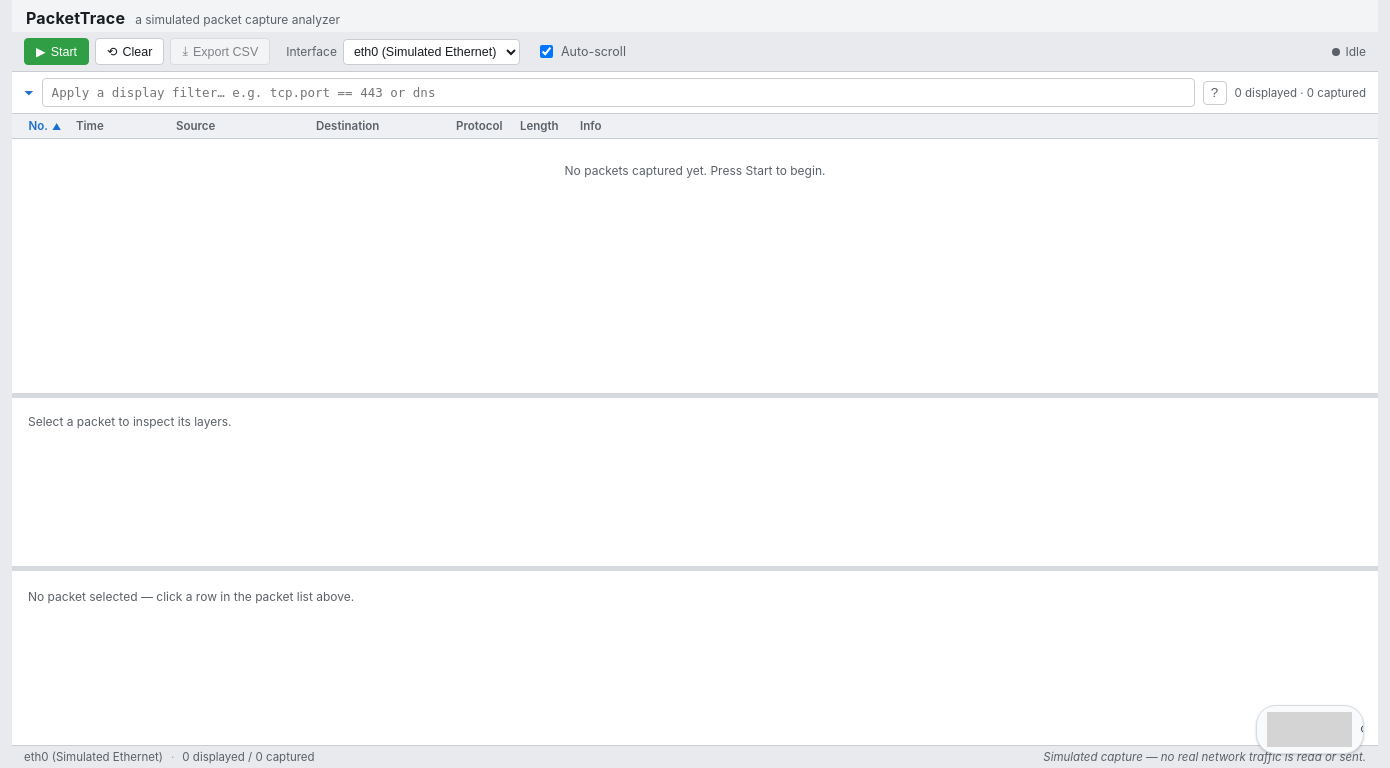
Test: App › starts idle and toggles capture state on Start/Stop
The image size is (1390, 768).
expect the text "Idle" is shown: met, box left=1332, top=44, right=1366, bottom=59
Step 1. Click the button "▶ Start" → (56, 52), box left=24, top=38, right=89, bottom=65
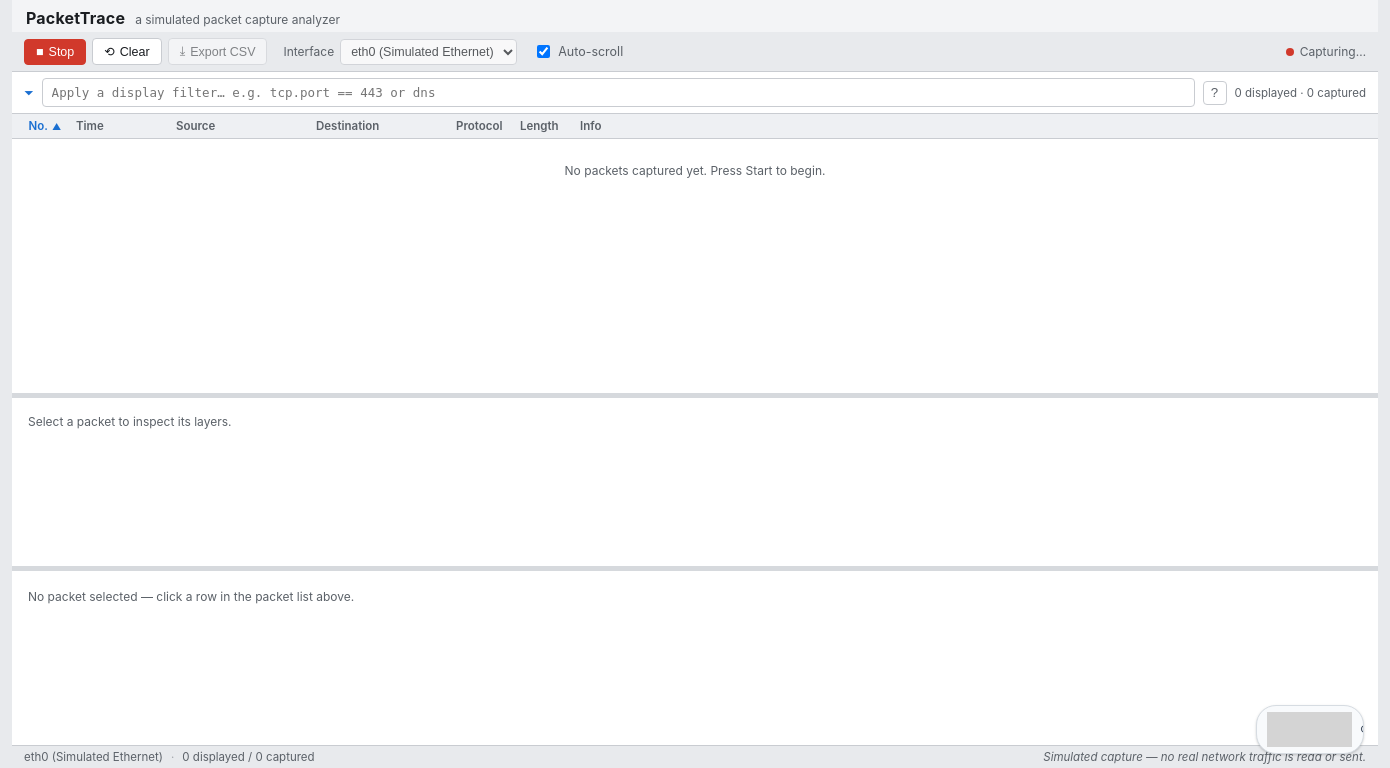
expect the text "Capturing…" is shown: met, box left=1286, top=44, right=1366, bottom=59
Step 2. Click the button "■ Stop" → (55, 52), box left=24, top=38, right=86, bottom=64
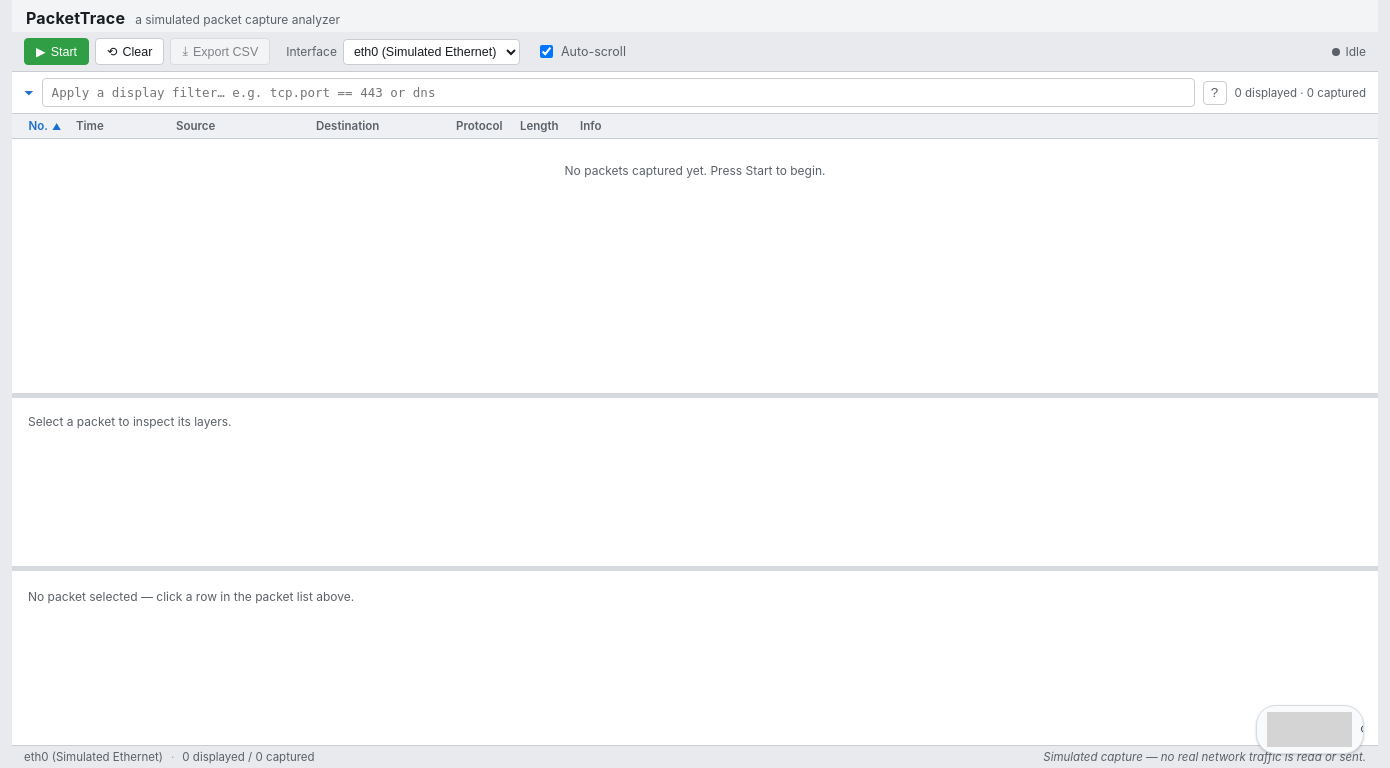
expect the text "Idle" is shown: met, box left=1332, top=44, right=1366, bottom=59
